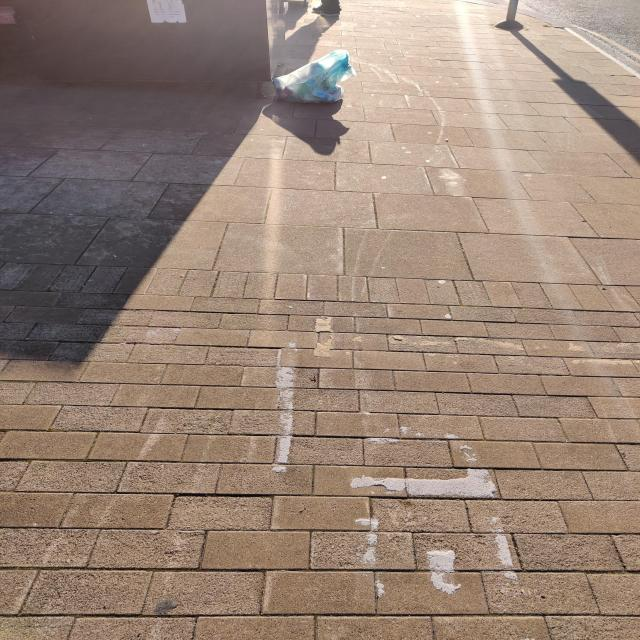litter: (271, 40, 363, 121)
